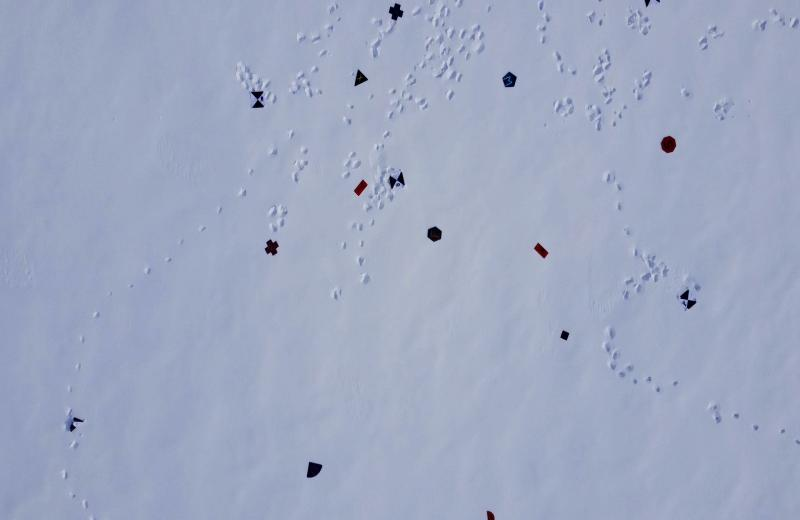Cross: (388, 2, 404, 23), (264, 239, 280, 258)
Hexagon: (426, 226, 443, 244)
Octagon: (660, 136, 678, 154)
Pentagon: (501, 71, 518, 89)
Quarter Circle: (303, 460, 324, 480)
Rectangle: (352, 177, 370, 198), (533, 240, 549, 259)
Semi Circle: (485, 509, 496, 520)
Square: (559, 327, 570, 342)
Triangle: (352, 68, 370, 87)
